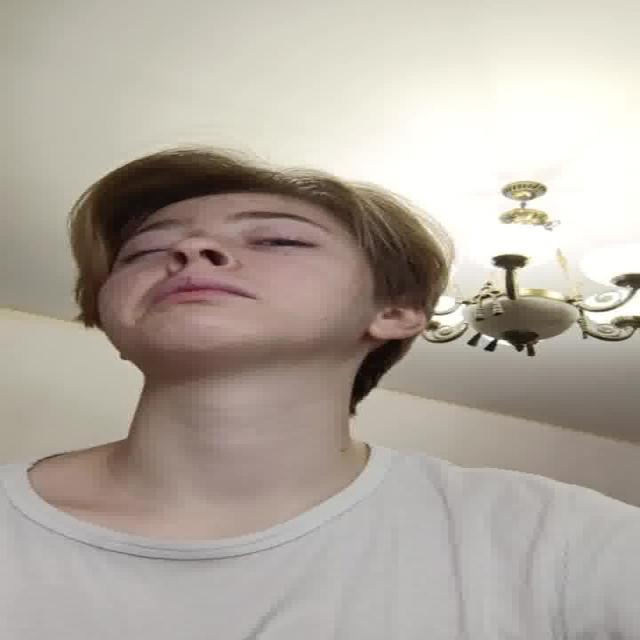earlobe: (365, 324, 419, 341)
eye: (247, 234, 321, 250), (122, 244, 170, 260)
nose: (171, 260, 239, 280)
wholeear: (372, 300, 429, 340)
